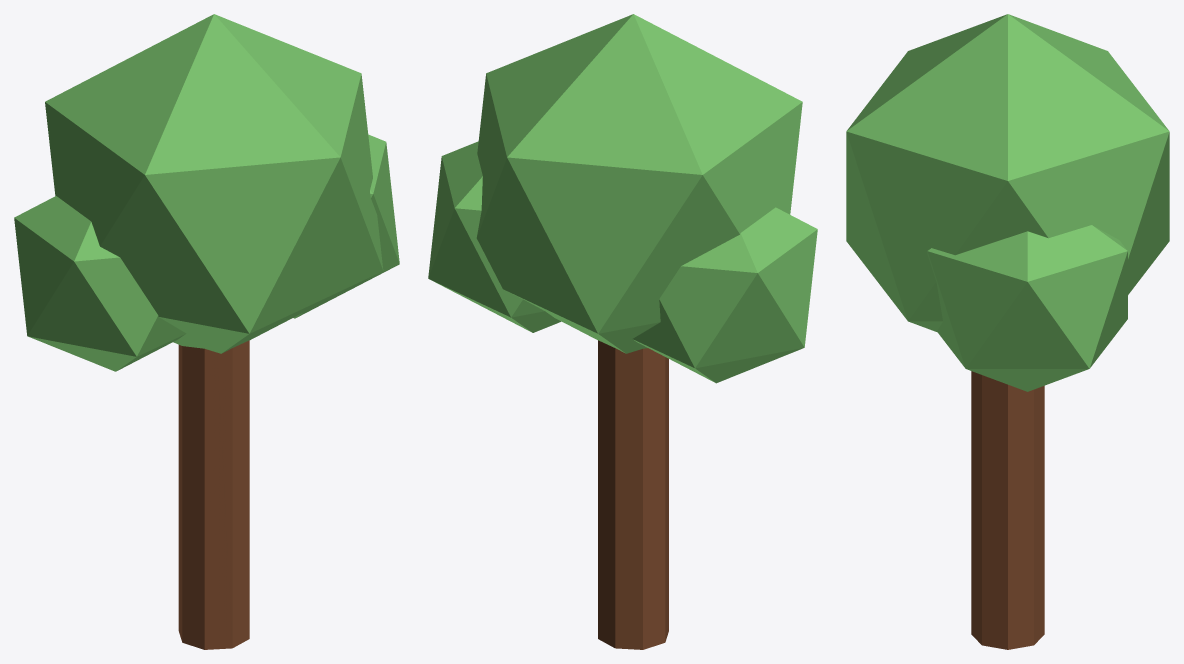
The model's file is tree-large.glb.
The picture shows the model from 3 angles, left to right: view 1: azimuth 30°, elevation 25°; view 2: azimuth 150°, elevation 25°; view 3: azimuth 270°, elevation 25°; orthographic projection.
Parts seen in each view (by area): view 1: canopy_0, trunk, canopy_2, canopy_1; view 2: canopy_0, trunk, canopy_2, canopy_1; view 3: canopy_0, canopy_1, trunk.
Boxes of the visible parts, left/top/right/bottom form: canopy_0: left=45, top=14, right=383, bottom=353; trunk: left=178, top=340, right=249, bottom=649; canopy_2: left=14, top=196, right=186, bottom=371; canopy_1: left=293, top=134, right=399, bottom=318; canopy_0: left=476, top=14, right=802, bottom=353; trunk: left=598, top=340, right=668, bottom=649; canopy_2: left=633, top=207, right=817, bottom=383; canopy_1: left=428, top=141, right=561, bottom=332; canopy_0: left=846, top=14, right=1169, bottom=331; canopy_1: left=927, top=225, right=1127, bottom=391; trunk: left=971, top=371, right=1044, bottom=649.
Bounding box in the file's own units: 3.18 × 5.22 × 2.47.
